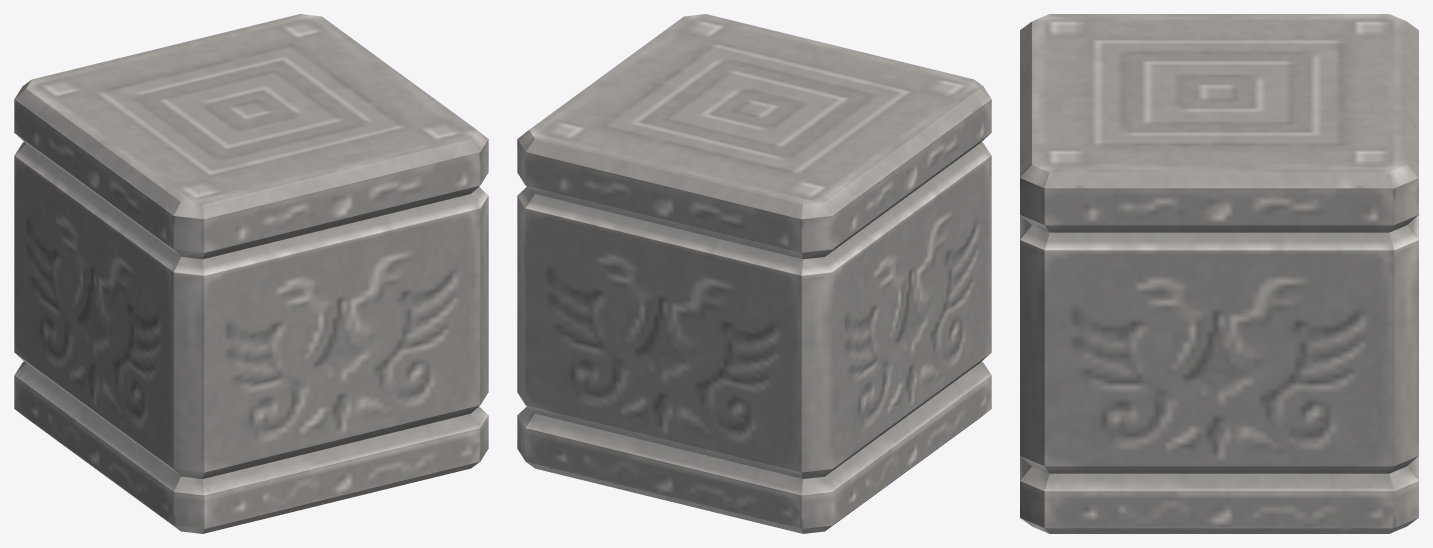
The model's file is StoneBlock.fbx.
3 views of the same model, side by side, from view 1: azimuth 30°, elevation 25°; view 2: azimuth 150°, elevation 25°; view 3: azimuth 270°, elevation 25° (orthographic). The views are drawn at different scales.
Visible parts, largest first — view 1: StoneBlock; view 2: StoneBlock; view 3: StoneBlock.
Part boxes in pixels (<box>): StoneBlock: <box>14,14,488,533</box>; StoneBlock: <box>517,14,991,533</box>; StoneBlock: <box>1020,14,1418,533</box>.
Bounding box in the file's own units: 1 × 1 × 1.
